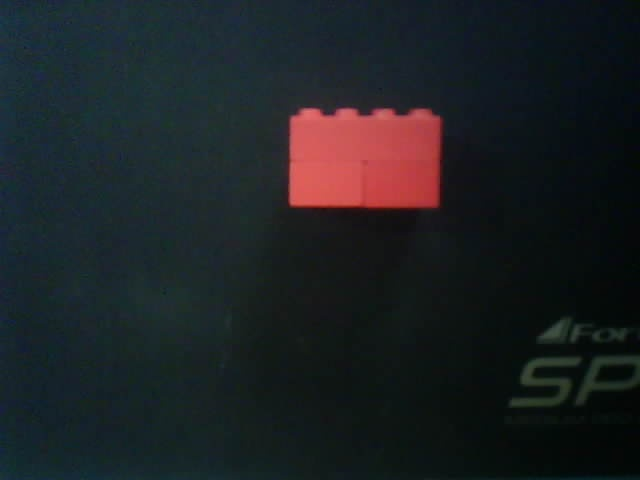lego: (285, 105, 444, 211)
